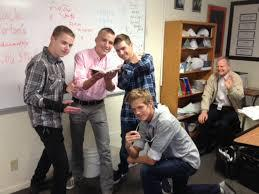Person: (124, 88, 236, 194), (23, 25, 81, 194), (71, 27, 115, 194), (112, 32, 155, 194), (198, 56, 244, 155)
